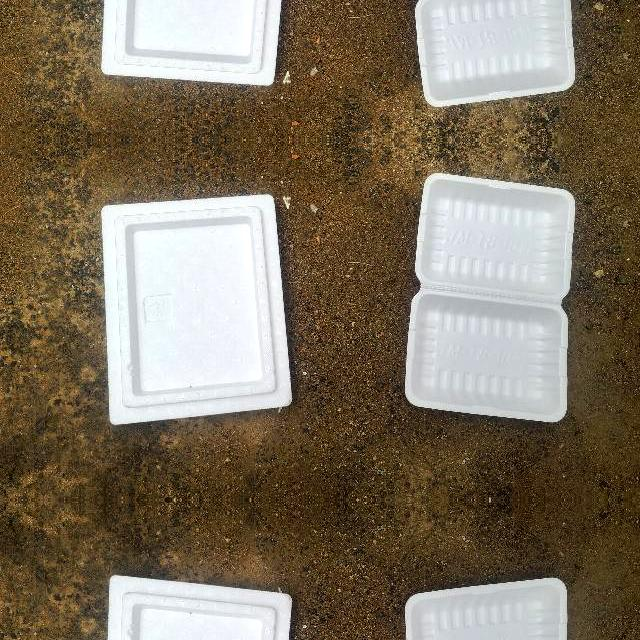Styrofoam: (100, 193, 292, 424), (101, 194, 292, 424), (405, 172, 577, 422), (406, 173, 576, 422), (405, 0, 577, 108), (416, 0, 576, 107), (99, 0, 292, 86), (101, 0, 282, 86), (99, 575, 292, 640), (107, 576, 292, 640), (405, 578, 577, 640), (406, 578, 569, 640)
